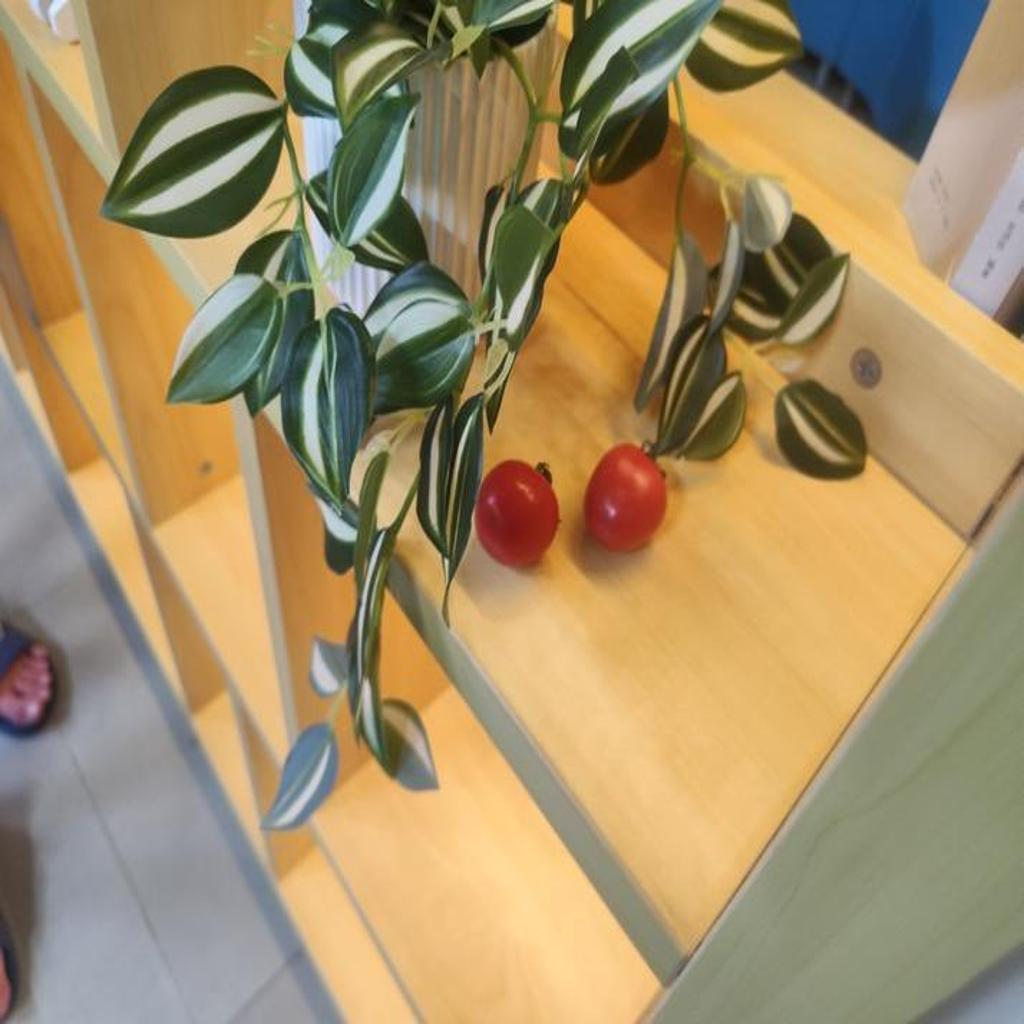tomato: (579, 444, 668, 554), (477, 456, 558, 573)
